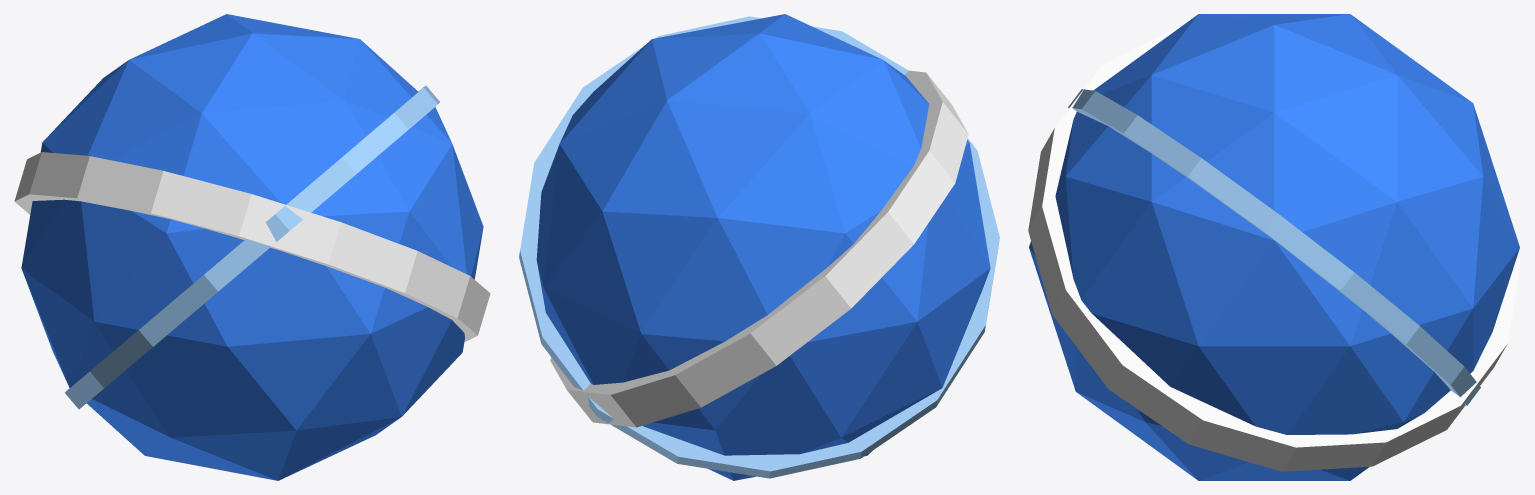
File: marble.glb
3 views of the same model, side by side, from view 1: azimuth 30°, elevation 25°; view 2: azimuth 150°, elevation 25°; view 3: azimuth 270°, elevation 25° (orthographic). The views are drawn at different scales.
Parts seen in each view (by area): view 1: Icosphere, Cylinder, Cylinder.001; view 2: Icosphere, Cylinder, Cylinder.001; view 3: Icosphere, Cylinder, Cylinder.001.
Part boxes in pixels (bbox=[...]): Icosphere: bbox=[21, 14, 483, 480]; Cylinder: bbox=[14, 152, 490, 341]; Cylinder.001: bbox=[65, 85, 439, 409]; Icosphere: bbox=[536, 14, 990, 480]; Cylinder: bbox=[550, 70, 968, 427]; Cylinder.001: bbox=[519, 16, 999, 478]; Icosphere: bbox=[1029, 14, 1519, 480]; Cylinder: bbox=[1028, 28, 1520, 471]; Cylinder.001: bbox=[1068, 89, 1480, 405].
Size of the model in its own units: 1.62 by 1.7 by 1.7.
